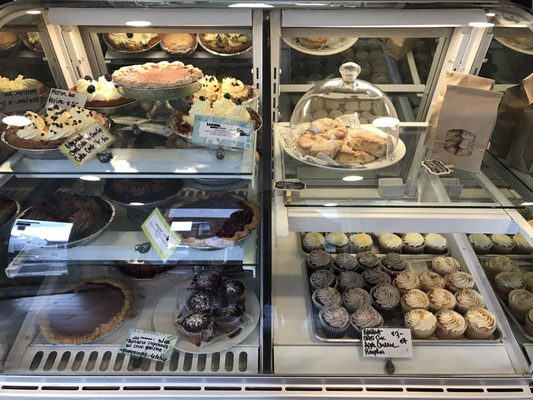salad: (40, 278, 134, 343)
